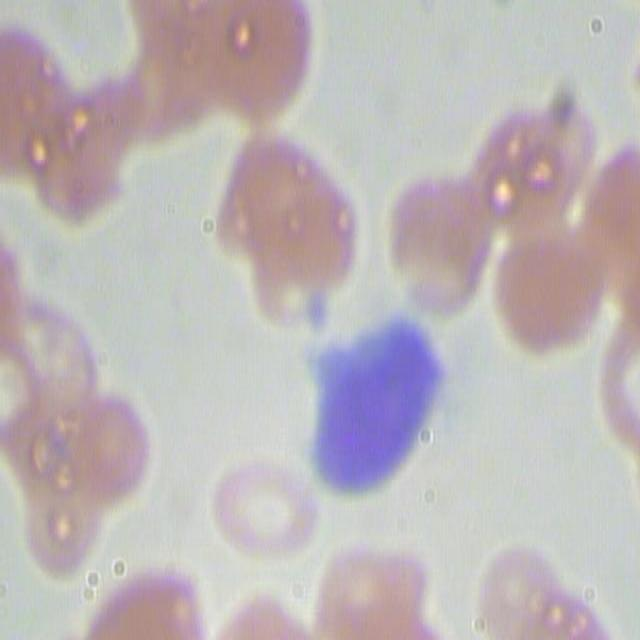RBC: (224, 134, 358, 350), (134, 0, 320, 122), (1, 386, 116, 578), (468, 92, 599, 235), (385, 169, 492, 329), (31, 0, 166, 120), (85, 566, 209, 640), (600, 307, 640, 450)
